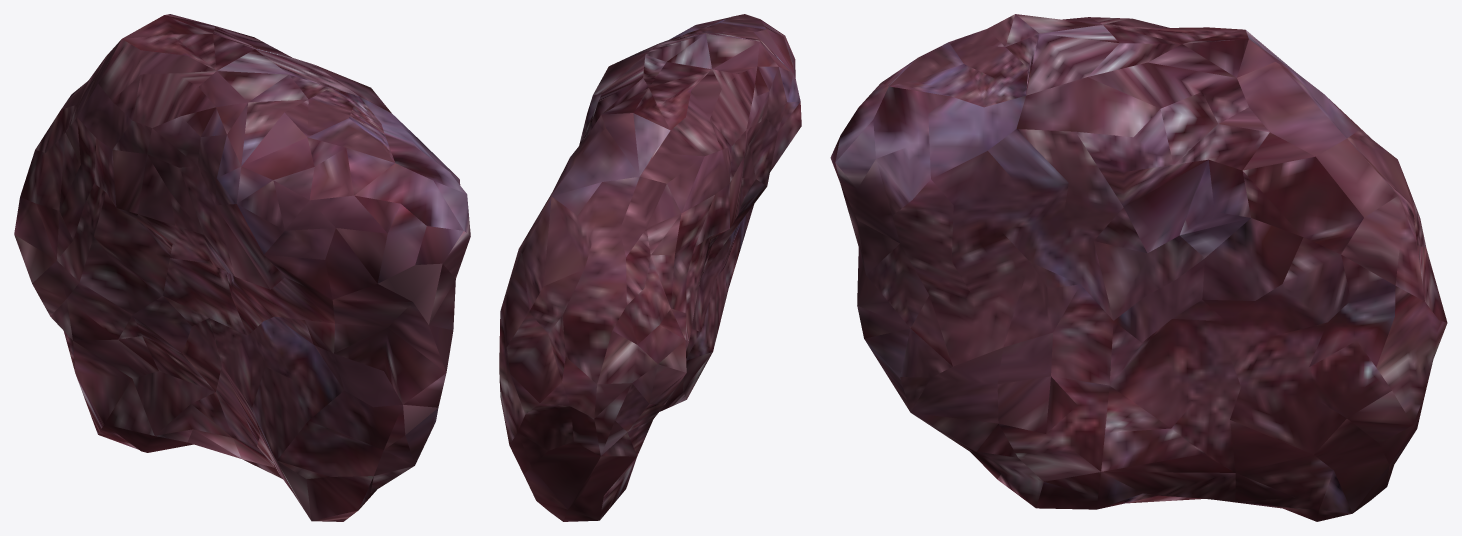
File: AuthenticMeatChunk03.fbx
The picture shows the model from 3 angles, left to right: view 1: azimuth 30°, elevation 25°; view 2: azimuth 150°, elevation 25°; view 3: azimuth 270°, elevation 25°; orthographic projection. The views are drawn at different scales.
Visible parts, largest first — view 1: rock.002; view 2: rock.002; view 3: rock.002.
Boxes of the visible parts, bbox=[...] form: rock.002: bbox=[14, 14, 470, 521]; rock.002: bbox=[499, 14, 801, 521]; rock.002: bbox=[830, 14, 1447, 521].
Size of the model in its own units: 0.0641 by 0.1256 by 0.1471.
